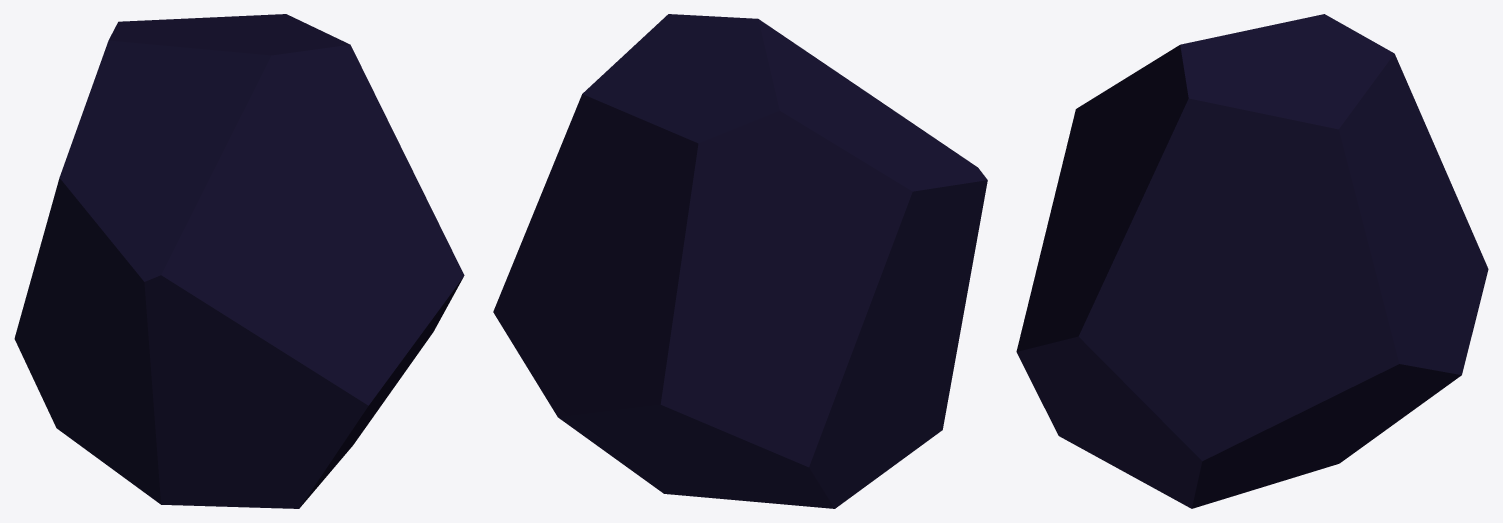
Rendered from StoneSmall4.fbx.
3 views of the same model, side by side, from view 1: azimuth 30°, elevation 25°; view 2: azimuth 150°, elevation 25°; view 3: azimuth 270°, elevation 25° (orthographic). The views are drawn at different scales.
Visible parts, largest first — view 1: StoneSmall4; view 2: StoneSmall4; view 3: StoneSmall4.
Boxes of the visible parts, bbox=[...] form: StoneSmall4: bbox=[14, 14, 464, 508]; StoneSmall4: bbox=[493, 14, 987, 508]; StoneSmall4: bbox=[1016, 14, 1488, 508].
Size of the model in its own units: 151 by 170 by 173.
1 material, 1 textured.
